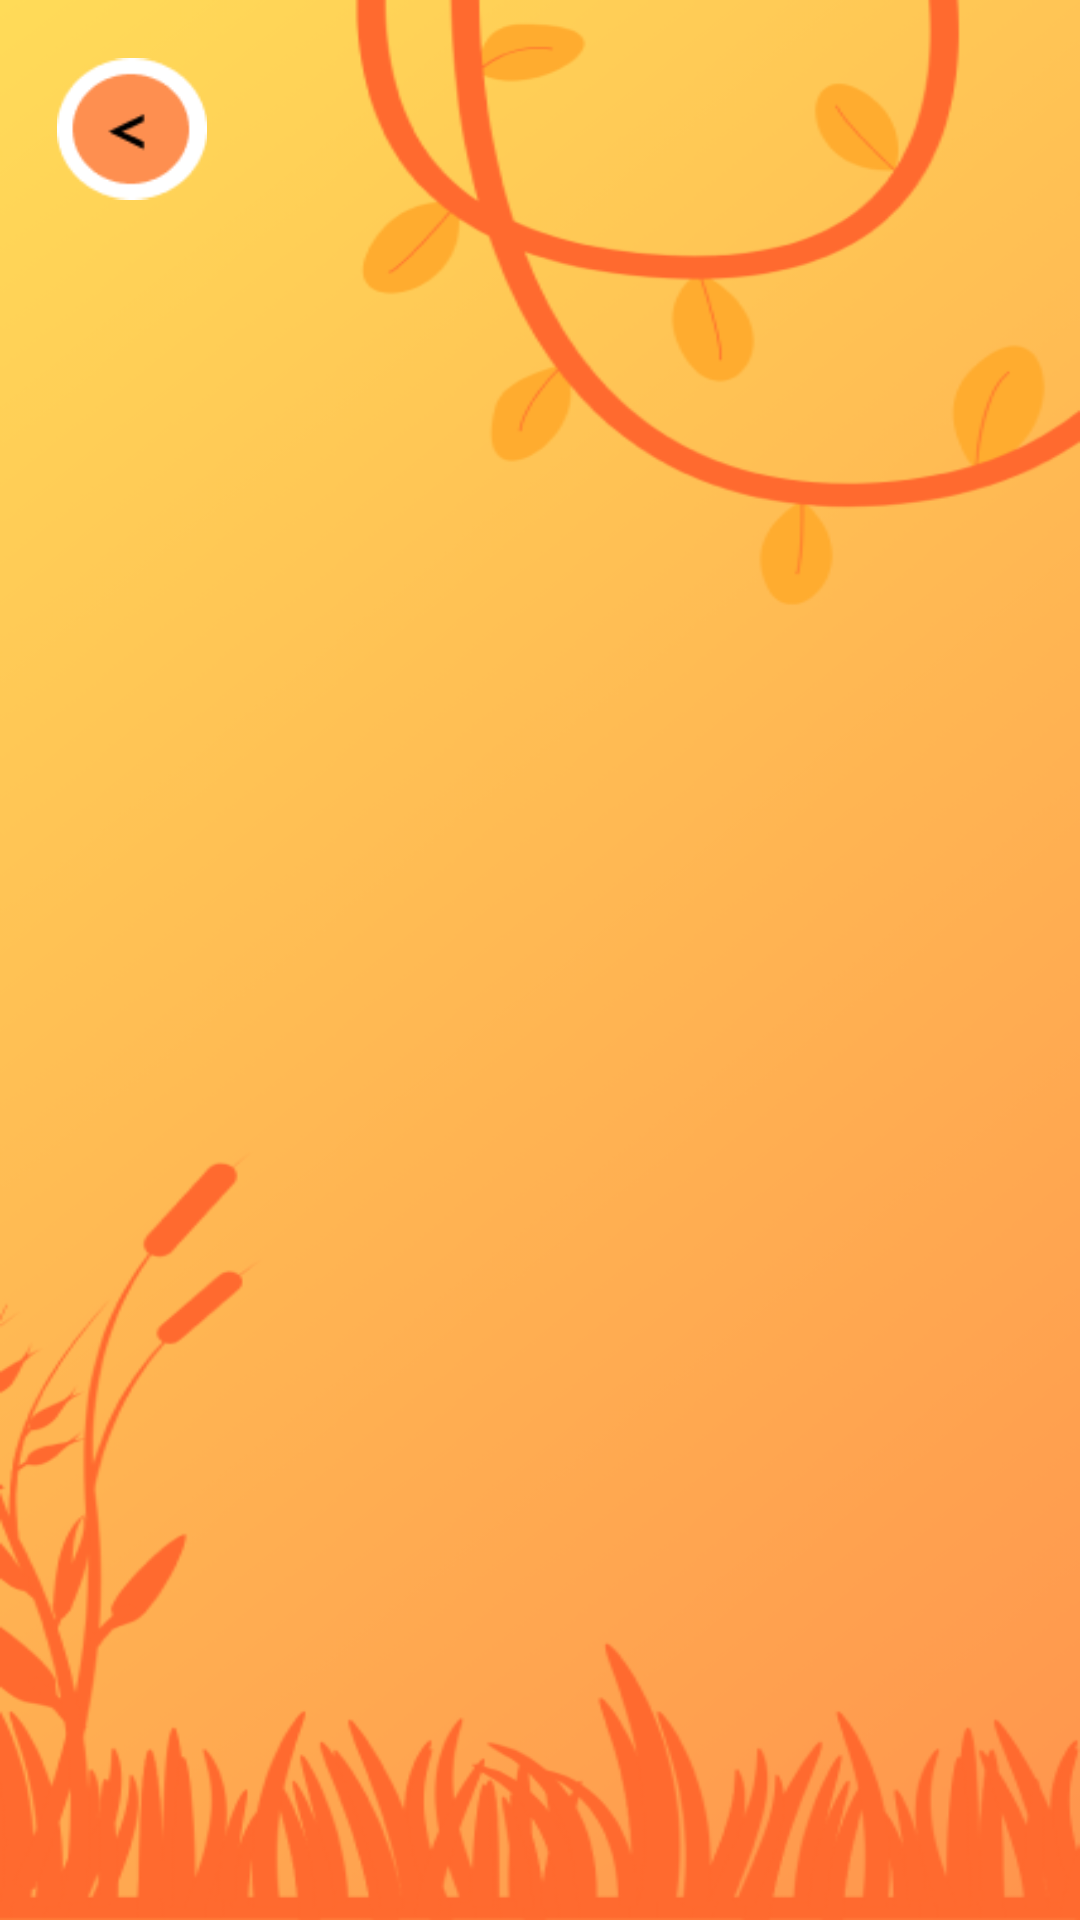

Icon click points for this 1080px×1920px phone screenshot, format (x,y):
Back: (132,129)
